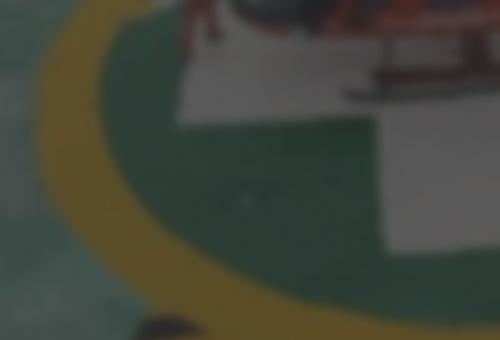Apron: (26, 1, 500, 340)
